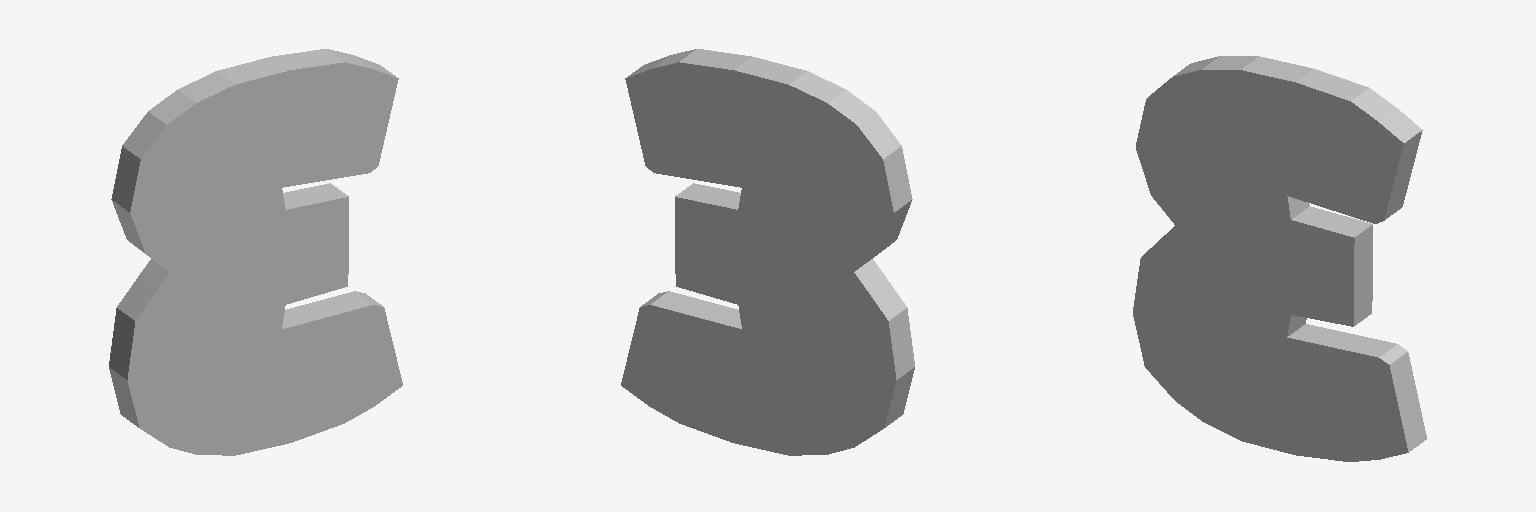
The model's file is number3.obj.
The picture shows the model from 3 angles: view 1: azimuth 30°, elevation 25°; view 2: azimuth 150°, elevation 25°; view 3: azimuth 330°, elevation 25°; orthographic projection.
Visible parts, largest first — view 1: 3; view 2: 3; view 3: 3.
Boxes of the visible parts, x1,y1,x2,y2 form: 3: [109, 49, 402, 455]; 3: [621, 49, 914, 455]; 3: [1133, 56, 1426, 461].
Size of the model in its own units: 1.7 by 2.2 by 0.2.